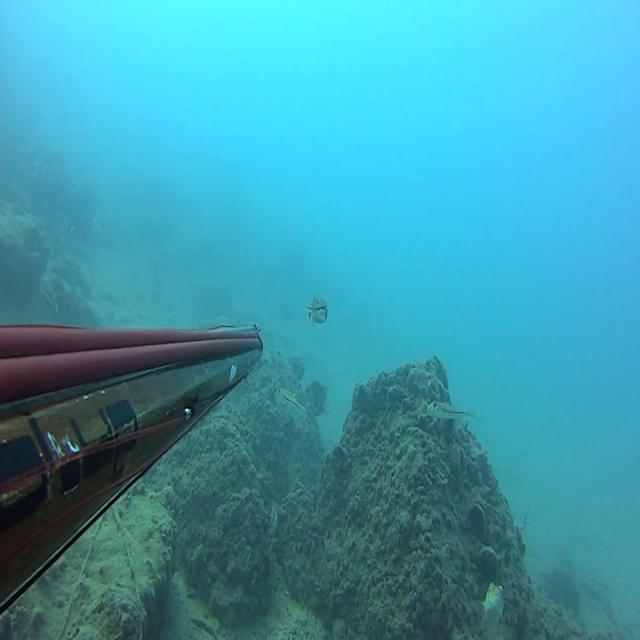Balon Baligi: (477, 582, 504, 634), (427, 401, 476, 424), (277, 388, 306, 412), (307, 295, 328, 326), (40, 279, 58, 311)
